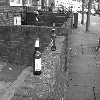beer: (31, 37, 46, 74)
